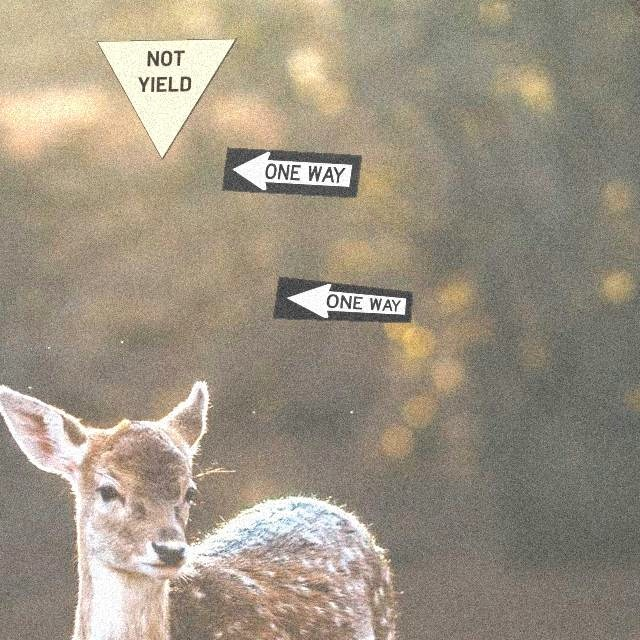NOT_YIELD: (96, 38, 237, 160)
ONE_WAY_ left: (221, 147, 362, 198), (272, 276, 413, 323)
